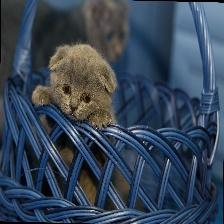kedo: (32, 43, 116, 129)
